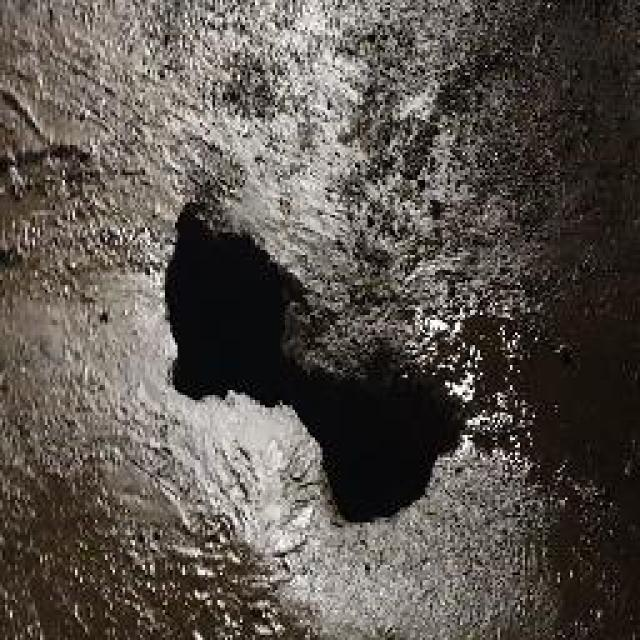stagnation: (145, 183, 546, 551)
